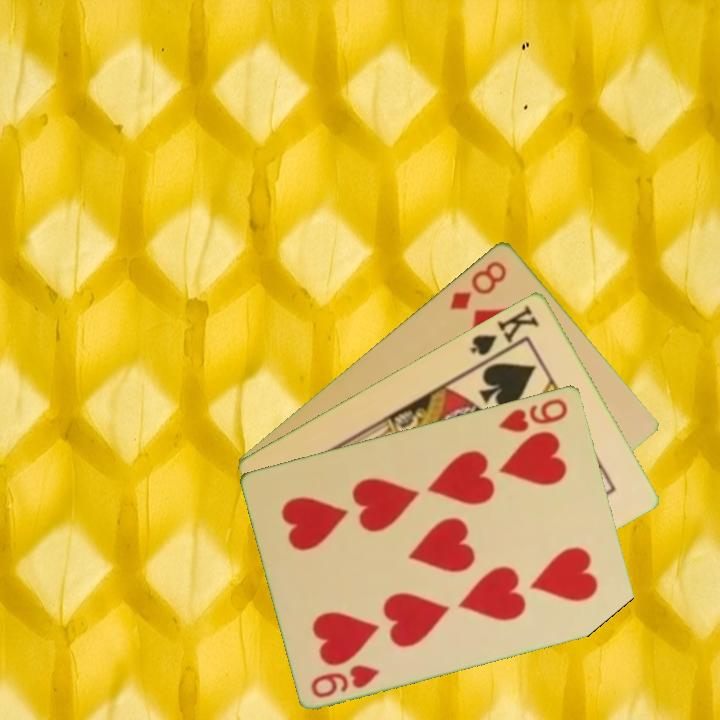8d: (446, 256, 510, 313)
9h: (495, 394, 571, 435), (307, 660, 383, 701)
Ks: (466, 300, 542, 367)
